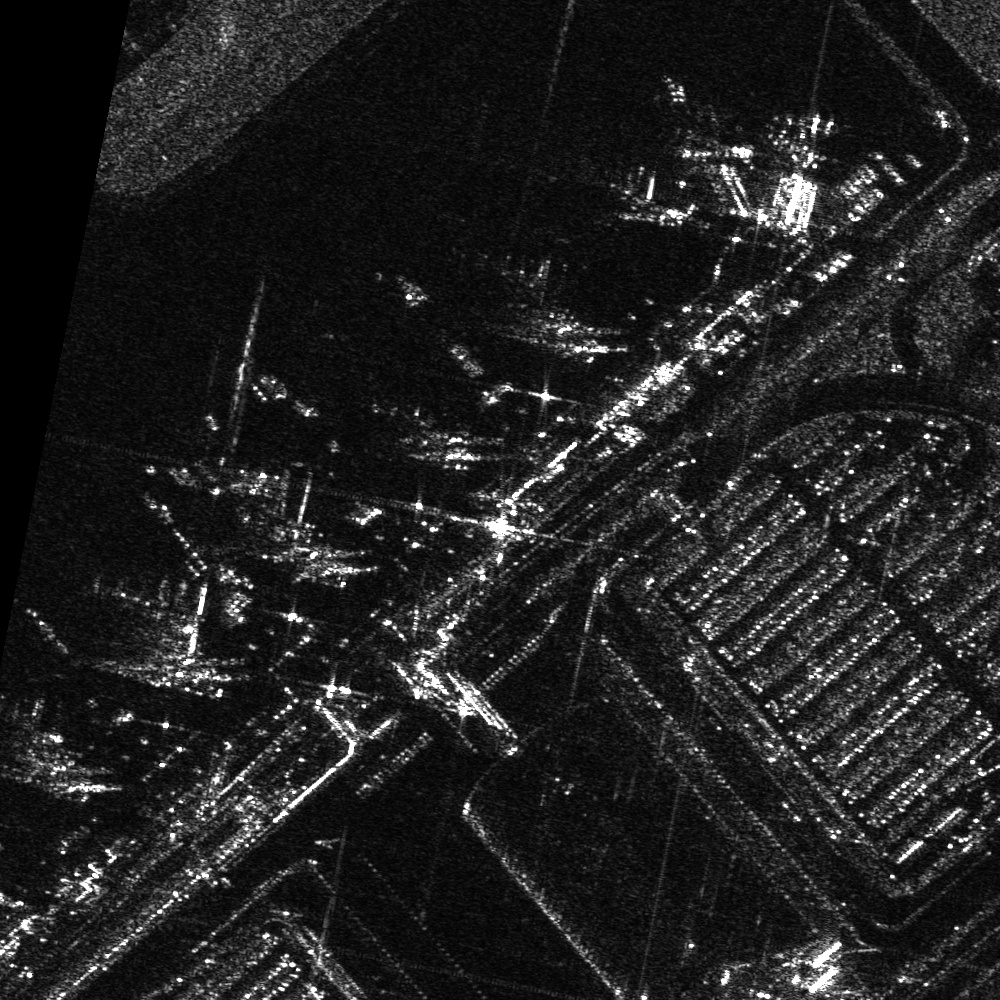Boeing737: (456, 249, 564, 346), (675, 96, 761, 164), (605, 164, 689, 229)
Boeing787: (92, 566, 209, 689), (204, 454, 311, 542), (766, 106, 847, 171)
